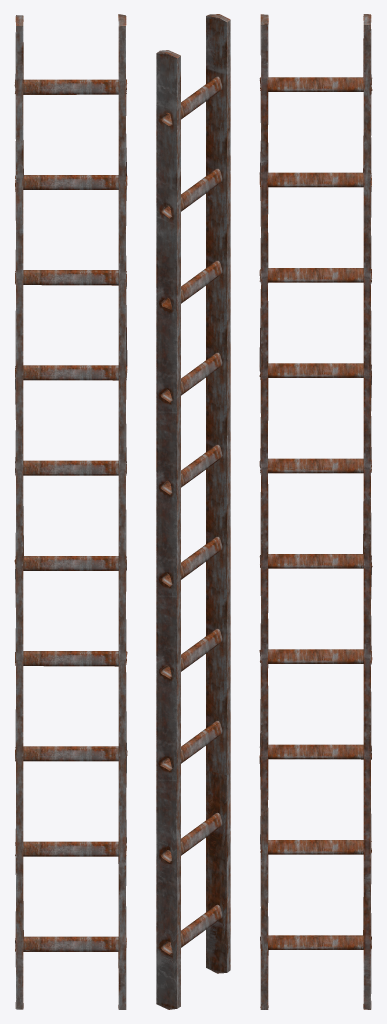
File: SM_Ladder_Steel.fbx
3 renders of one model, left to right at view 1: azimuth 90°, elevation 25°; view 2: azimuth 150°, elevation 25°; view 3: azimuth 270°, elevation 25°, orthographic. The views are drawn at different scales.
Parts seen in each view (by area): view 1: SM_Ladder_Steel_LOD0; view 2: SM_Ladder_Steel_LOD0; view 3: SM_Ladder_Steel_LOD0.
Part boxes in pixels (left/top/right/bottom): SM_Ladder_Steel_LOD0: left=14, top=14, right=127, bottom=1009; SM_Ladder_Steel_LOD0: left=156, top=14, right=230, bottom=1009; SM_Ladder_Steel_LOD0: left=259, top=14, right=372, bottom=1009.
Bounding box in the file's own units: 10.5 × 46.52 × 449.
Materials: 1 (1 with a texture image).
